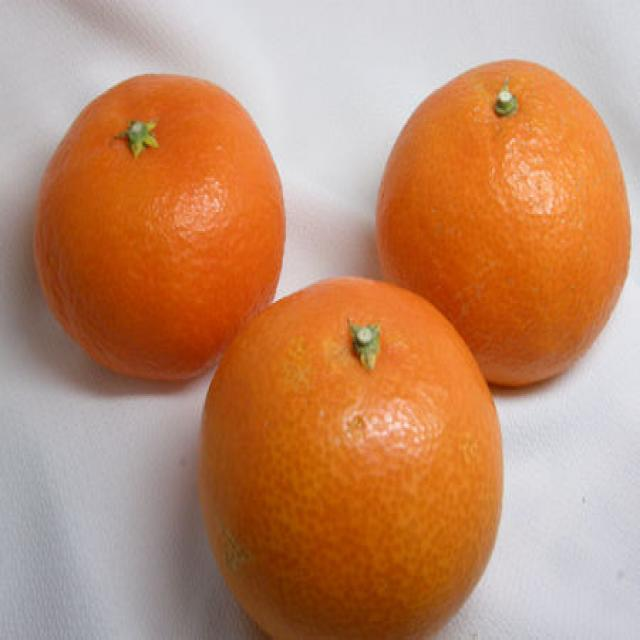Orange: (205, 273, 502, 640), (374, 54, 636, 392), (40, 71, 285, 379)
